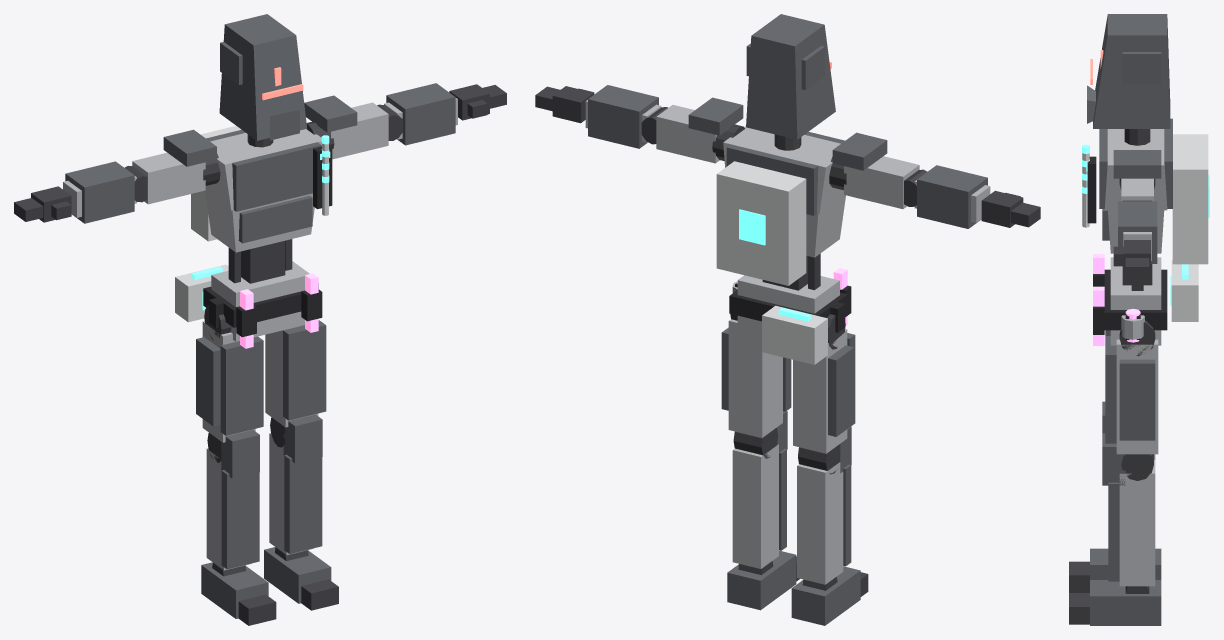
File: char_F2_medic.glb
3 renders of one model, left to right at view 1: azimuth 30°, elevation 25°; view 2: azimuth 150°, elevation 25°; view 3: azimuth 270°, elevation 25°, orthographic. The views are drawn at different scales.
Visible parts, largest first — view 1: Head_mesh, UpperChest_mesh, LeftLowerLeg_mesh, RightLowerLeg_mesh, RightUpperLeg_mesh, Hips_mesh, LeftUpperLeg_mesh, Chest_mesh, RightLowerArm_mesh, RightUpperArm_mesh, LeftLowerArm_mesh, LeftUpperArm_mesh (+8 smaller); view 2: UpperChest_mesh, Head_mesh, LeftLowerLeg_mesh, RightLowerLeg_mesh, RightUpperLeg_mesh, LeftUpperLeg_mesh, Hips_mesh, RightLowerArm_mesh, RightUpperArm_mesh, LeftLowerArm_mesh, LeftUpperArm_mesh, Slot_ReviveKitSlot (+6 smaller); view 3: UpperChest_mesh, Head_mesh, LeftLowerLeg_mesh, LeftUpperLeg_mesh, Hips_mesh, LeftFoot_mesh, LeftUpperArm_mesh, LeftLowerArm_mesh, Slot_ReviveKitSlot, LeftHand_mesh, Chest_mesh, RightFoot_mesh (+8 smaller).
Boxes of the visible parts, x1,y1,x2,y2 form: Head_mesh: (219, 14, 307, 140); UpperChest_mesh: (191, 126, 332, 241); LeftLowerLeg_mesh: (269, 414, 322, 554); RightLowerLeg_mesh: (206, 430, 259, 570); RightUpperLeg_mesh: (196, 305, 263, 442); Hips_mesh: (203, 261, 322, 341); LeftUpperLeg_mesh: (265, 320, 326, 427); Chest_mesh: (205, 192, 314, 252); RightLowerArm_mesh: (63, 161, 147, 223); RightUpperArm_mesh: (132, 129, 216, 204); LeftLowerArm_mesh: (377, 83, 457, 145); LeftUpperArm_mesh: (304, 95, 388, 159); UpperChest_mesh: (716, 126, 844, 285); Head_mesh: (746, 14, 835, 139); LeftLowerLeg_mesh: (732, 411, 787, 568); RightLowerLeg_mesh: (797, 426, 851, 584); RightUpperLeg_mesh: (793, 314, 855, 453); LeftUpperLeg_mesh: (721, 314, 791, 437); Hips_mesh: (729, 275, 851, 336); RightLowerArm_mesh: (904, 165, 990, 228); RightUpperArm_mesh: (832, 132, 919, 208); LeftLowerArm_mesh: (585, 85, 667, 148); LeftUpperArm_mesh: (656, 97, 743, 163); Slot_ReviveKitSlot: (762, 305, 827, 364); UpperChest_mesh: (1086, 118, 1209, 264); Head_mesh: (1087, 14, 1170, 128); LeftLowerLeg_mesh: (1102, 433, 1155, 586); LeftUpperLeg_mesh: (1105, 320, 1158, 454); Hips_mesh: (1093, 257, 1167, 345); LeftFoot_mesh: (1090, 580, 1161, 625); LeftUpperArm_mesh: (1113, 150, 1161, 201); LeftLowerArm_mesh: (1118, 200, 1157, 263); Slot_ReviveKitSlot: (1170, 259, 1198, 321); LeftHand_mesh: (1113, 240, 1150, 278); Chest_mesh: (1102, 209, 1164, 253); RightFoot_mesh: (1090, 548, 1161, 579).
Bounding box in the file's own units: 1.69 × 1.88 × 0.4162.
